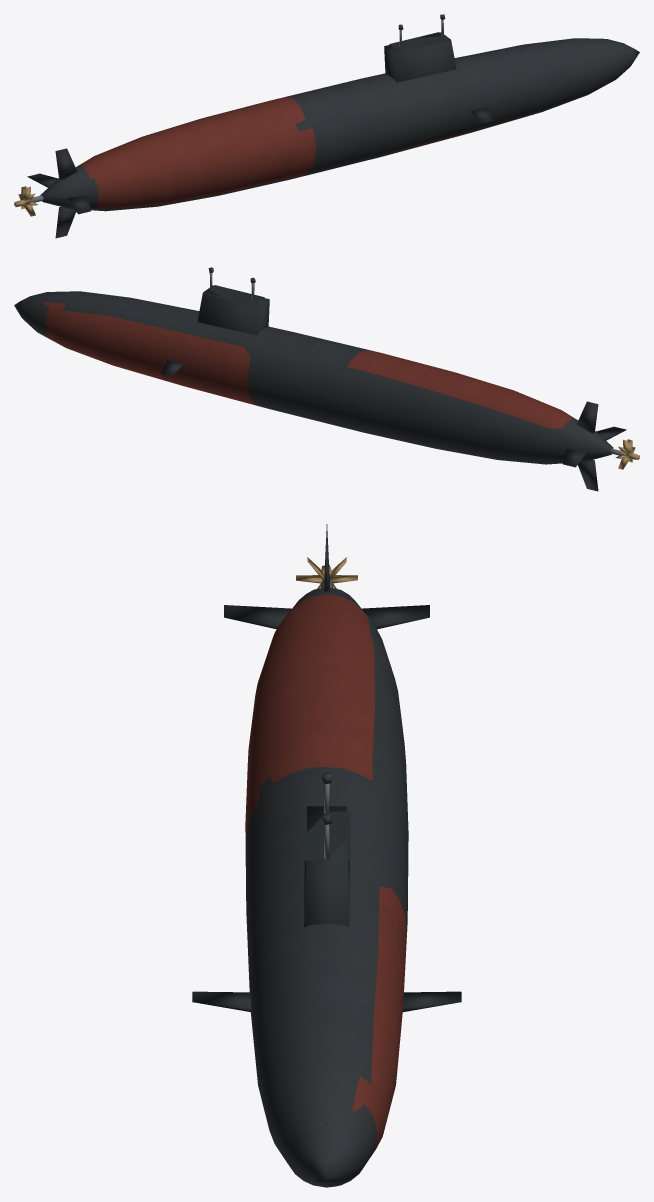
The model's file is UK_SSN_Swiftsure_LOD3.fbx.
3 renders of one model, top to bottom at view 1: azimuth 30°, elevation 25°; view 2: azimuth 150°, elevation 25°; view 3: azimuth 270°, elevation 25°, orthographic. The views are drawn at different scales.
Parts seen in each view (by area): view 1: UK_SSN_Swiftsure_LOD3; view 2: UK_SSN_Swiftsure_LOD3; view 3: UK_SSN_Swiftsure_LOD3.
Part boxes in pixels (x1,y1,x2,y2): UK_SSN_Swiftsure_LOD3: [14, 14, 639, 238]; UK_SSN_Swiftsure_LOD3: [14, 267, 639, 491]; UK_SSN_Swiftsure_LOD3: [192, 524, 461, 1187].
Bounding box in the file's own units: 86.65 × 16.16 × 17.07.
6 materials, 1 textured.
